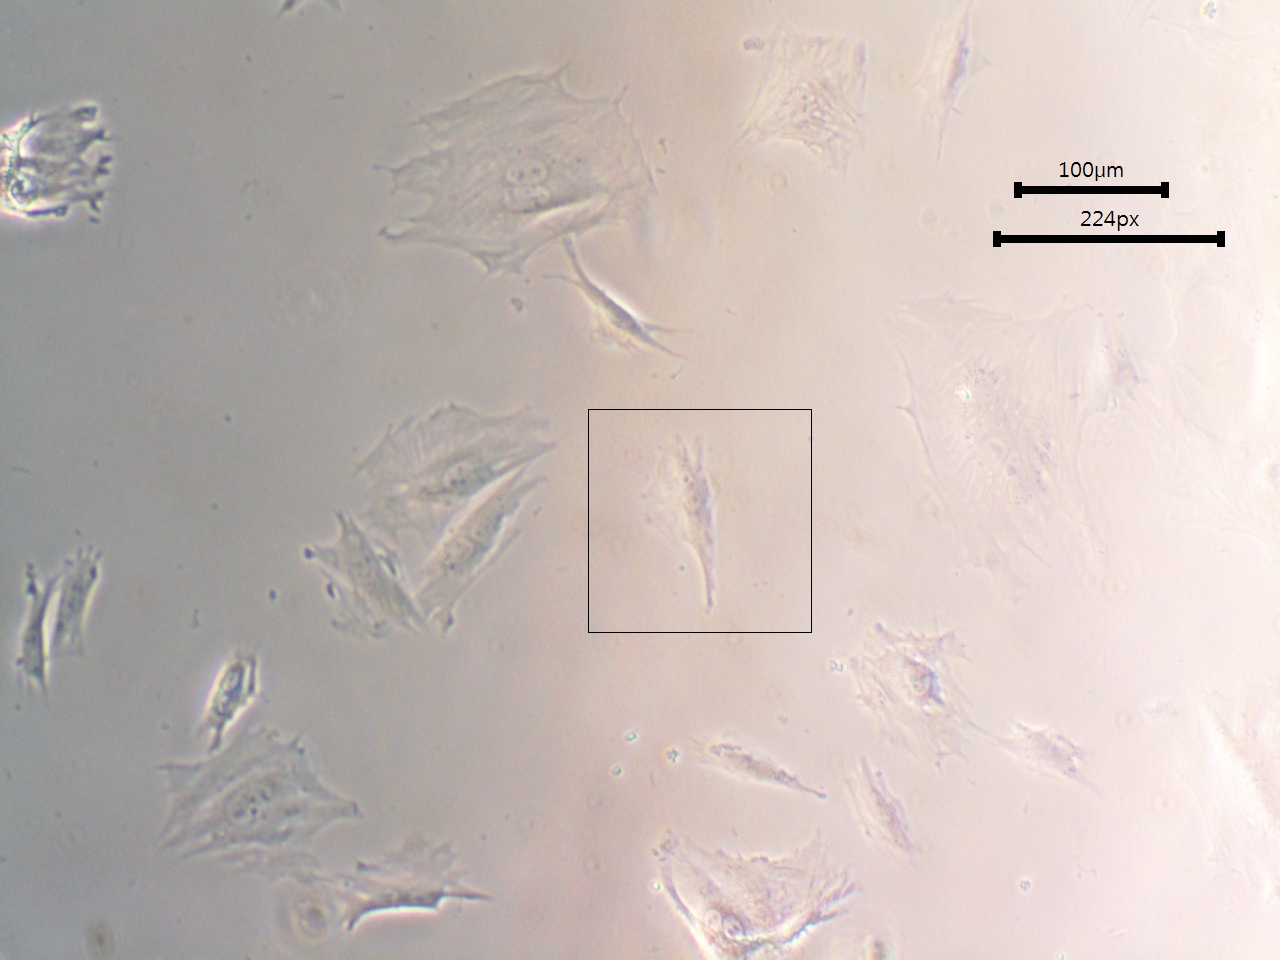dividing: (642, 814, 857, 956), (417, 470, 547, 631), (316, 833, 504, 931)
medium-polygonal: (540, 233, 716, 375), (638, 427, 747, 615), (54, 534, 112, 676)
medium-spread: (156, 728, 359, 888), (354, 397, 561, 546), (285, 509, 433, 662)
